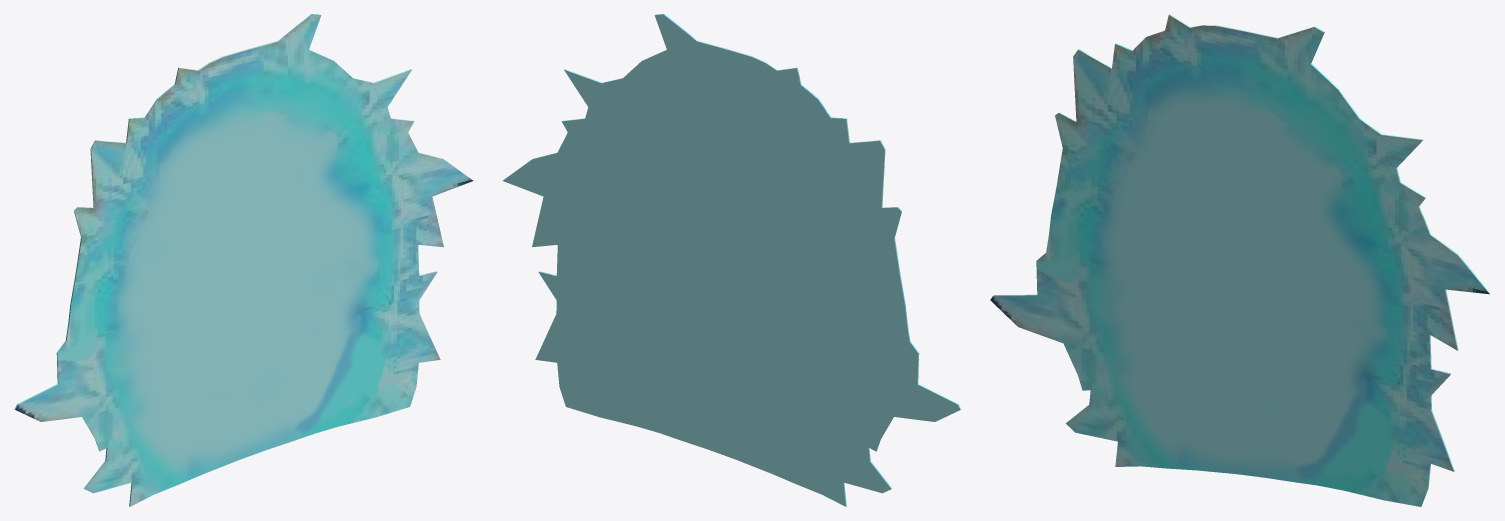
The model's file is Frozen.glb.
3 views of the same model, side by side, from view 1: azimuth 30°, elevation 25°; view 2: azimuth 150°, elevation 25°; view 3: azimuth 330°, elevation 25° (orthographic). The views are drawn at different scales.
Parts seen in each view (by area): view 1: Circle.012; view 2: Circle.012; view 3: Circle.012.
Boxes of the visible parts, x1,y1,x2,y2 form: Circle.012: (14,14,473,506); Circle.012: (502,14,961,506); Circle.012: (990,14,1490,506).
Bounding box in the file's own units: 6.38 × 5.96 × 0.02.
1 material, 1 textured.
